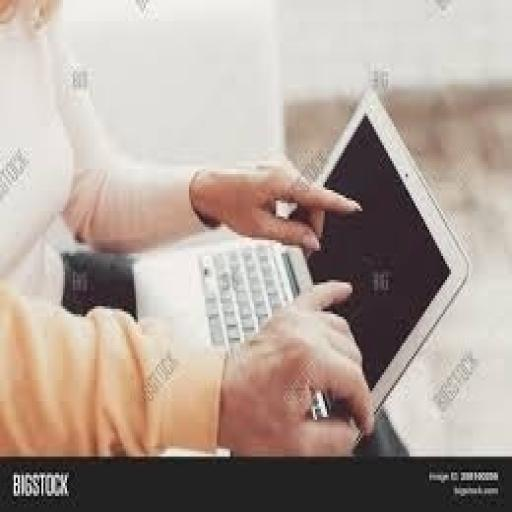using_laptop: (91, 56, 474, 502)
